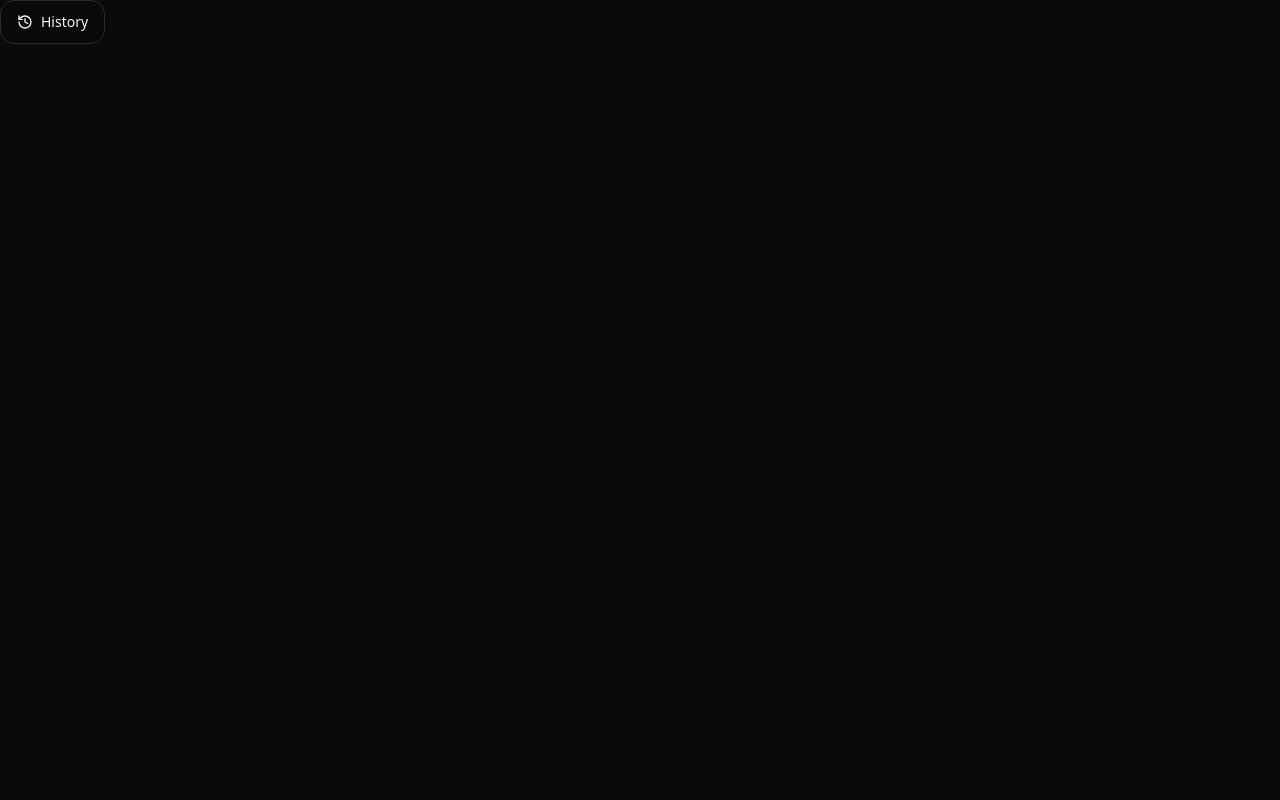
Test: QAHistoryDialog › shows the hold reason and the photo the answer moved from
Click the button "History" at x=53, y=22, box [0,0,105,44]
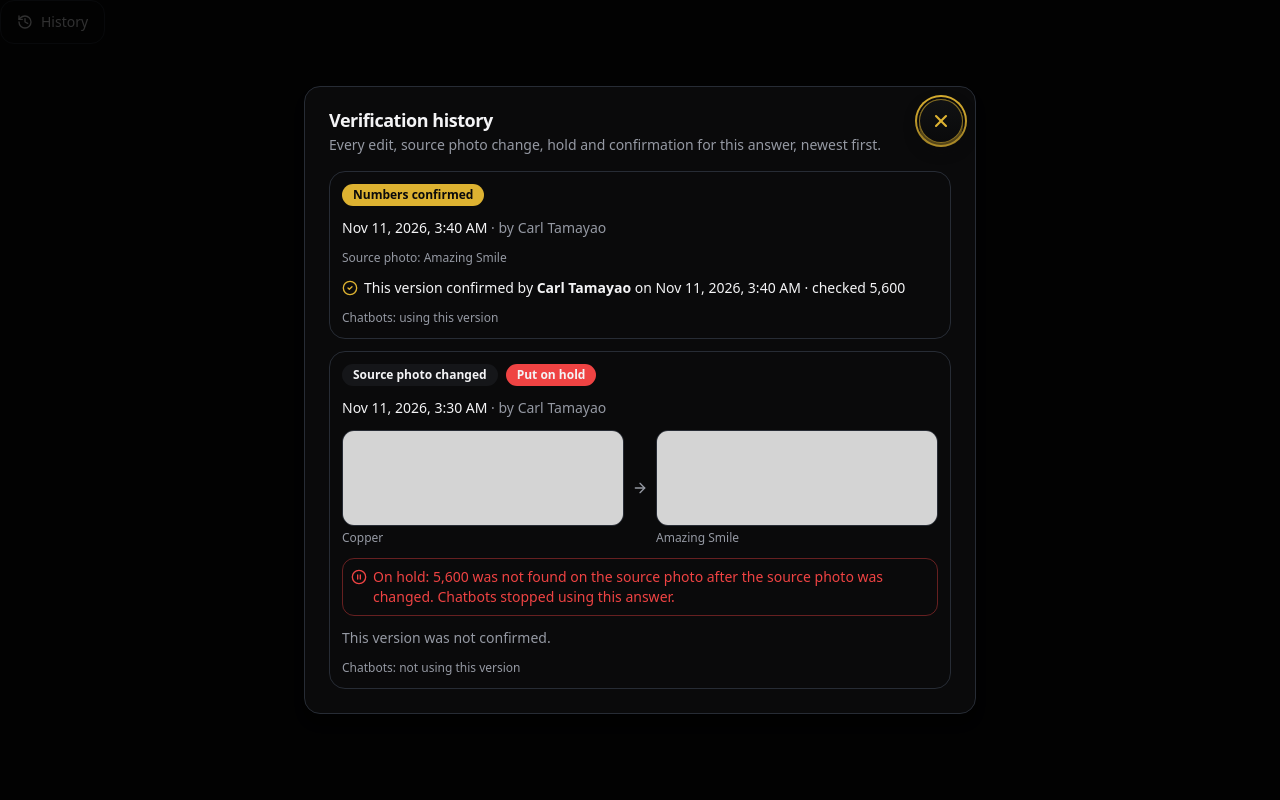
Check: the text "5,600 was not found on the source photo" is shown, box [373,567,883,606]
Check: the text "Copper" is shown, box [342,529,383,546]
Check: the text "Amazing Smile" is shown, box [656,529,739,546]
